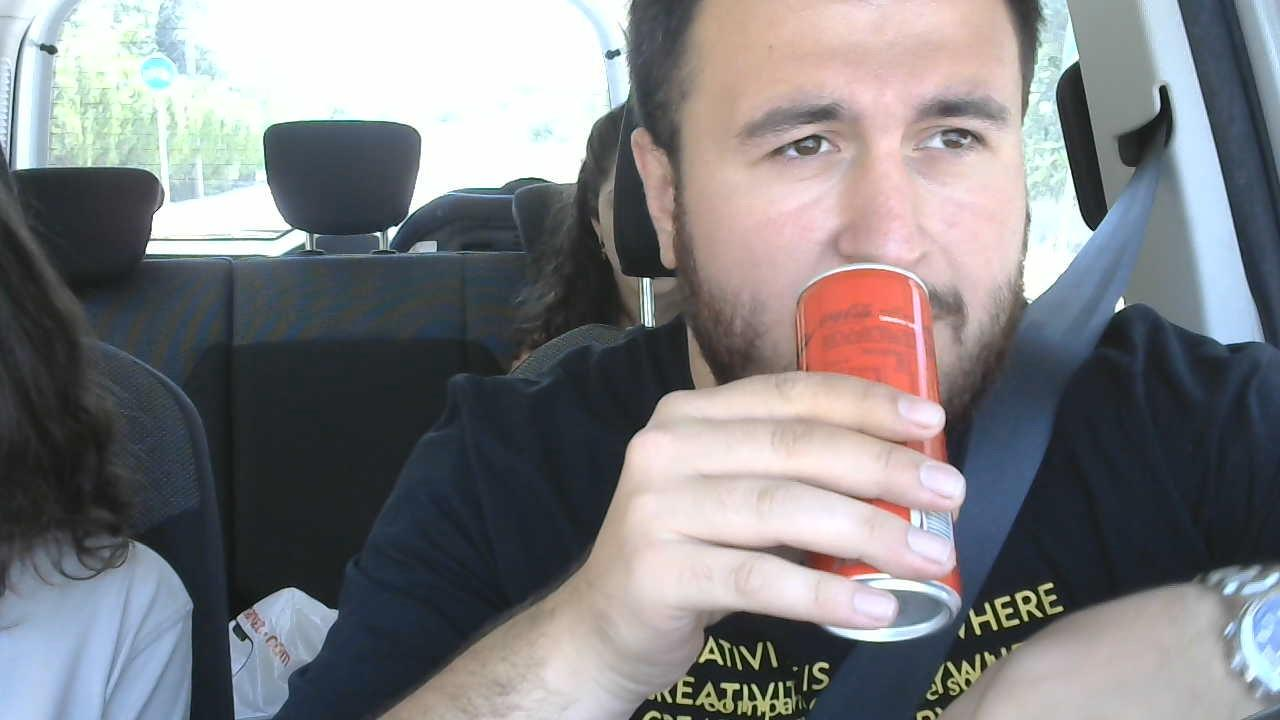Drinking: (786, 263, 967, 645)
